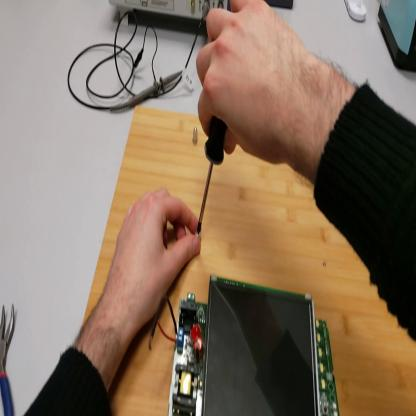hand: (196, 4, 308, 169), (106, 190, 202, 329)
low voltage board: (155, 278, 342, 414)
oscilloscope: (110, 2, 229, 33)
oscilloscope probe tip: (112, 66, 184, 114)
pliers: (1, 307, 20, 415)
screwdriver-: (197, 117, 228, 236)
welder station: (378, 1, 416, 74)
working area: (84, 110, 416, 415)
